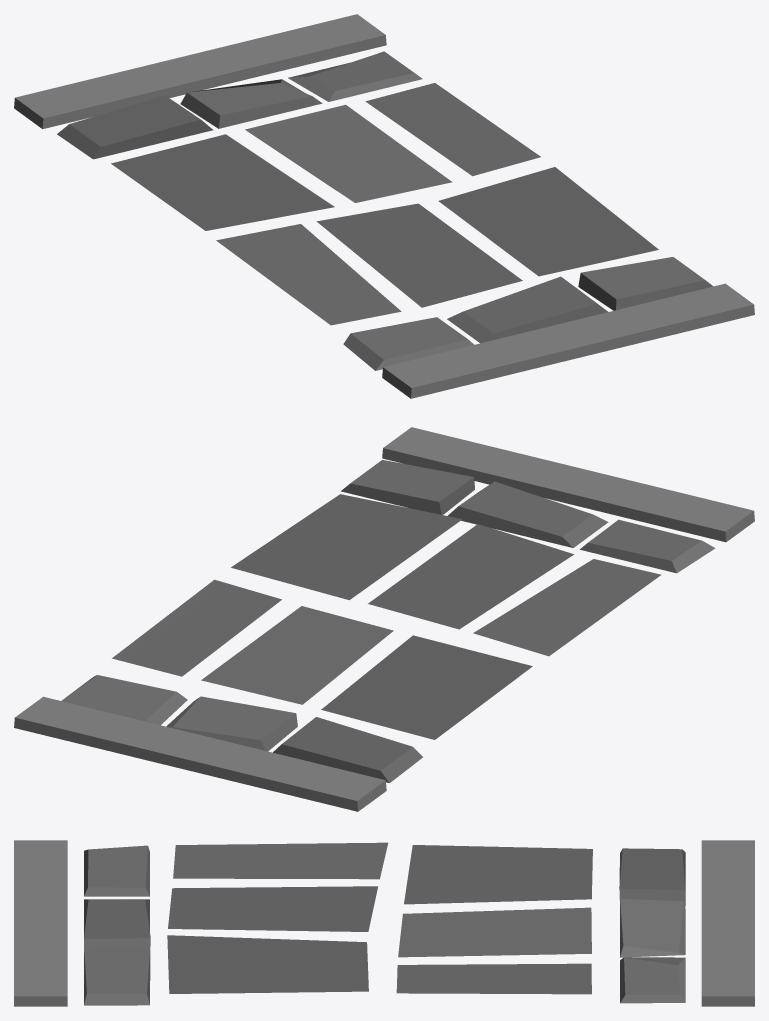
Rendered from Road Cobble Short.glb.
3 views of the same model, one above another, from view 1: azimuth 30°, elevation 25°; view 2: azimuth 150°, elevation 25°; view 3: azimuth 270°, elevation 25° (orthographic). The views are drawn at different scales.
Visible parts, largest first — view 1: RoadCobbleShort; view 2: RoadCobbleShort; view 3: RoadCobbleShort.
Part boxes in pixels (left/top/right/bottom): RoadCobbleShort: left=14, top=14, right=754, bottom=398; RoadCobbleShort: left=14, top=427, right=754, bottom=811; RoadCobbleShort: left=14, top=840, right=754, bottom=1006.
Size of what is drawn, in the model's own units: 1 by 0.0397 by 2.
Materials: 1 (1 with a texture image).
